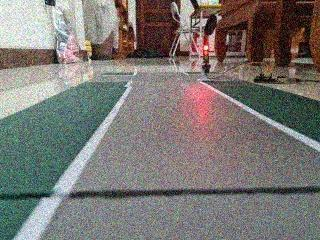red: (198, 40, 214, 72)
